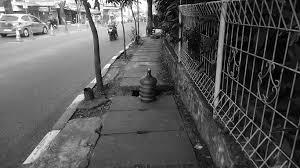Pothole: (74, 88, 116, 132), (113, 79, 144, 99)
